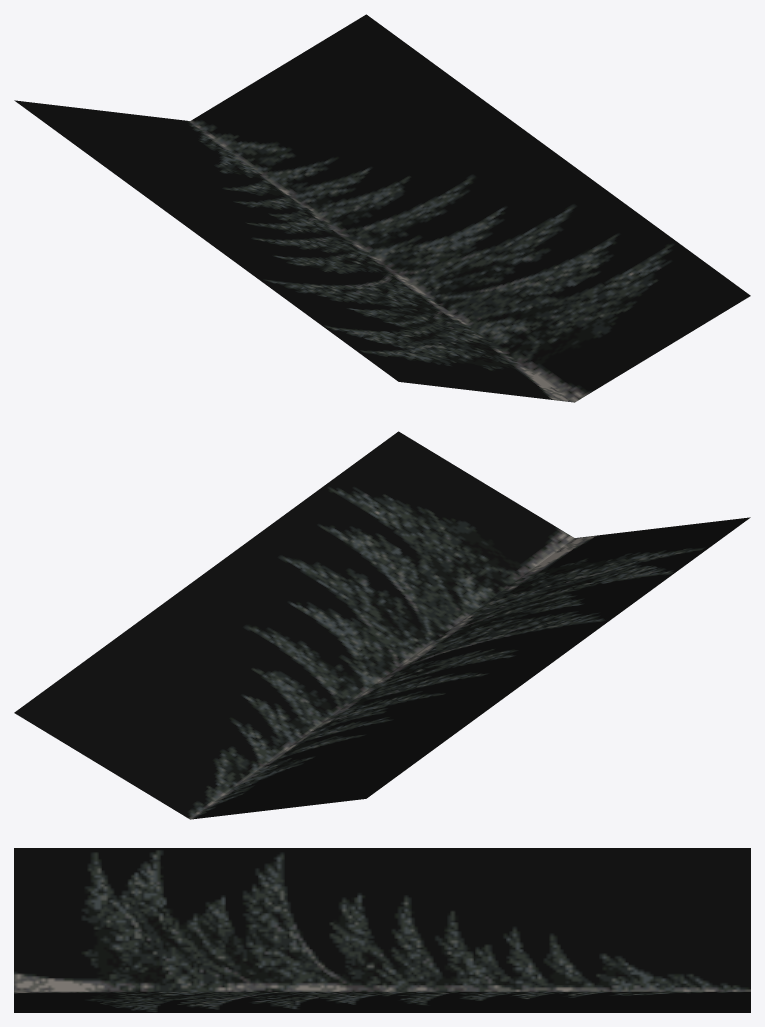
Rendered from SM_EC_Tree_Card_Bent_05.fbx.
The picture shows the model from 3 angles, top to bottom: view 1: azimuth 30°, elevation 25°; view 2: azimuth 150°, elevation 25°; view 3: azimuth 270°, elevation 25°; orthographic projection. The views are drawn at different scales.
Parts seen in each view (by area): view 1: SM_EC_Tree_Card_Bent_05; view 2: SM_EC_Tree_Card_Bent_05; view 3: SM_EC_Tree_Card_Bent_05.
Part boxes in pixels (x1,y1,x2,y2): SM_EC_Tree_Card_Bent_05: (14,14,750,402); SM_EC_Tree_Card_Bent_05: (14,431,750,819); SM_EC_Tree_Card_Bent_05: (14,848,750,1012).
Bounding box in the file's own units: 1.98 × 3.74 × 0.3418.
